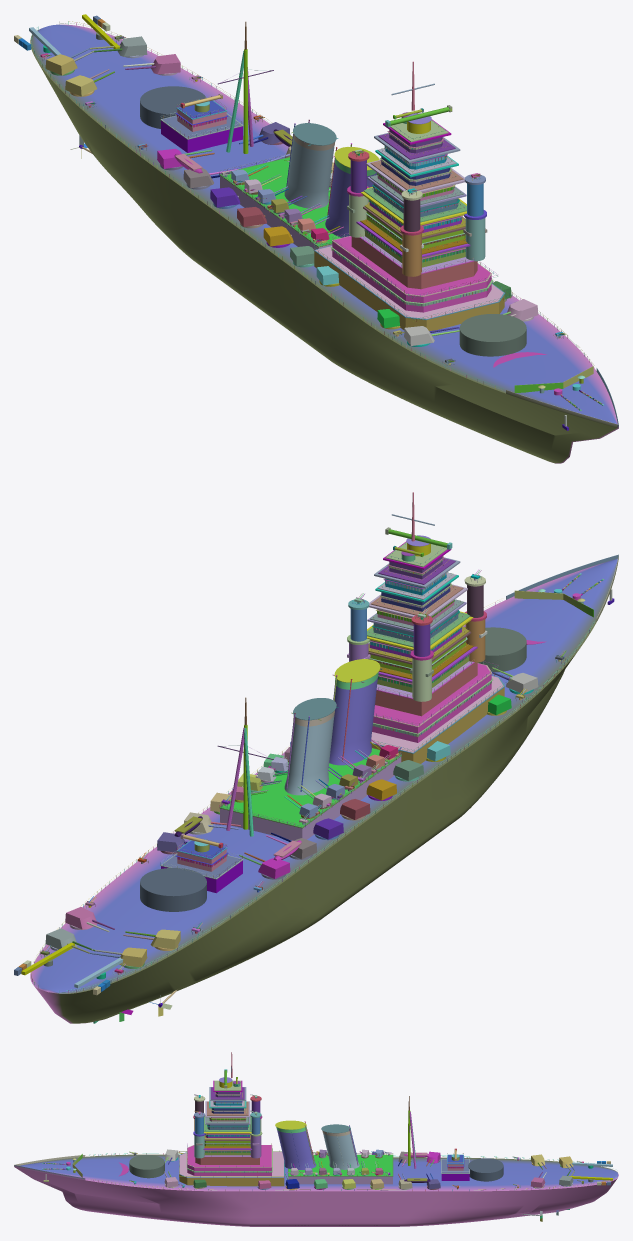
3 renders of one model, top to bottom at view 1: azimuth 30°, elevation 25°; view 2: azimuth 150°, elevation 25°; view 3: azimuth 270°, elevation 25°, orthographic. The views are drawn at different scales.
Parts seen in each view (by area): view 1: hull; view 2: hull; view 3: hull.
Boxes of the visible parts, x1,y1,x2,y2 form: hull: (14, 14, 618, 463); hull: (14, 492, 618, 1023); hull: (14, 1052, 618, 1226).
Size of what is drawn, in the model's own units: 41.9 by 87.34 by 300.
